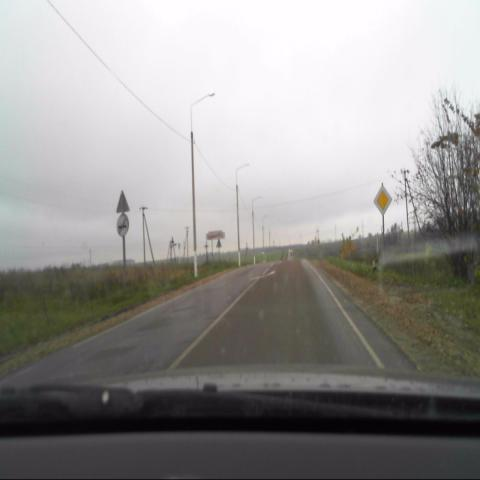2_1: (373, 184, 392, 217)
3_21: (116, 213, 130, 238)
